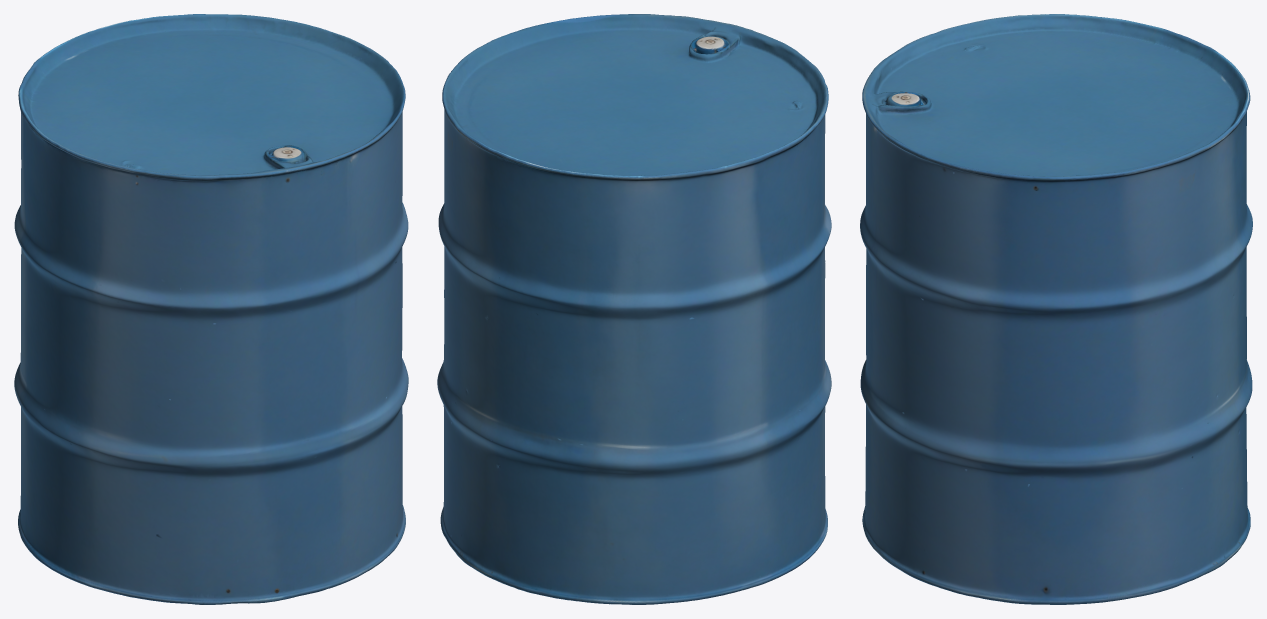
File: option2-3d-model.glb
3 renders of one model, left to right at view 1: azimuth 30°, elevation 25°; view 2: azimuth 150°, elevation 25°; view 3: azimuth 270°, elevation 25°, orthographic.
Size of the model in its own units: 1.66 by 2 by 1.66.
1 material, 1 textured.
